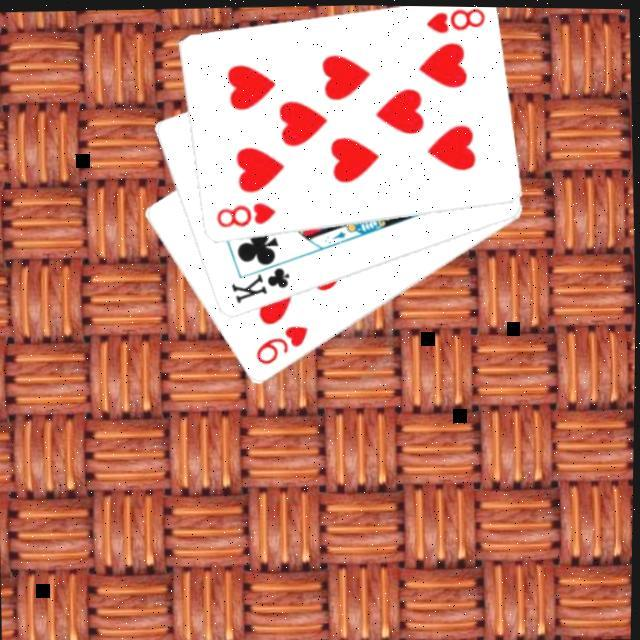8H: (214, 194, 281, 230), (424, 5, 489, 34)
9H: (252, 318, 316, 366)
KC: (228, 252, 298, 304)
